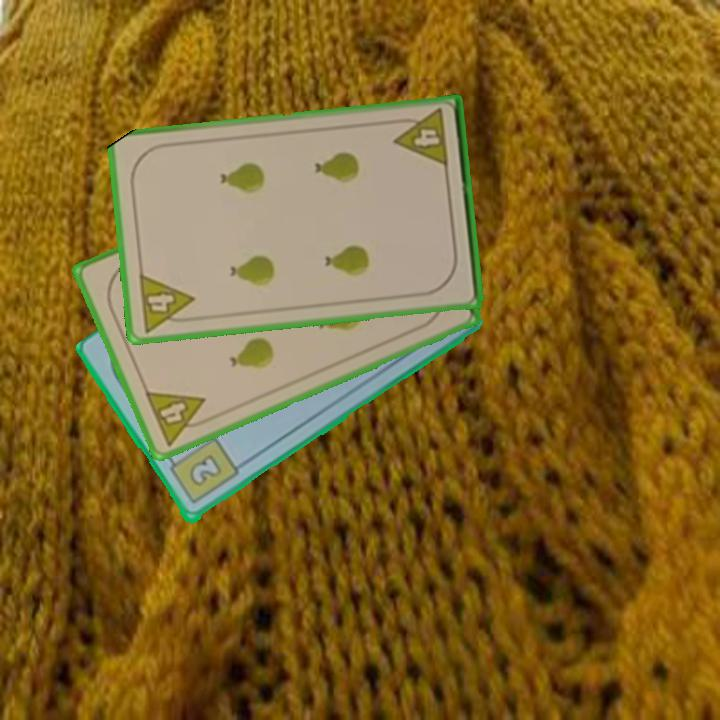2b: (163, 434, 242, 508)
4p: (141, 387, 216, 449), (135, 270, 199, 335), (389, 105, 451, 171)
